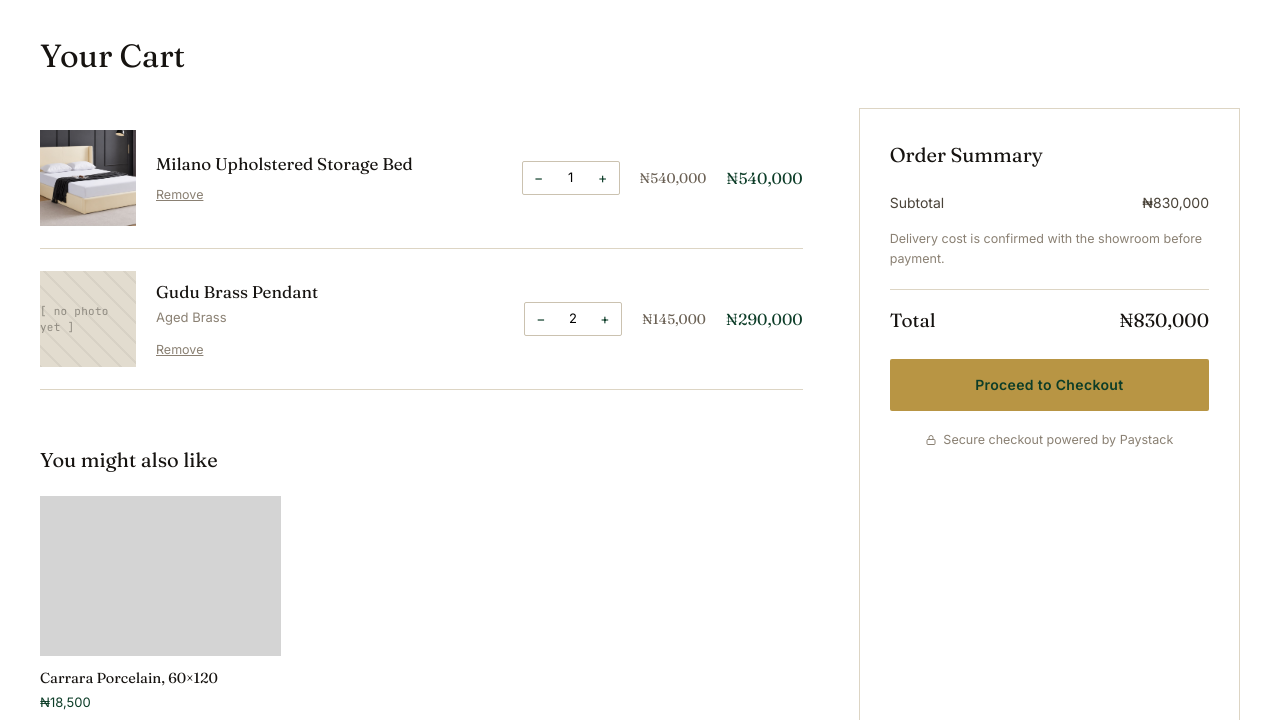
Test: CartView — remove › removes a line item and syncs cart-context with its quantity
This screenshot has width=1280, height=720.
Click the button "Remove" below "Aged Brass". click: (180, 350)
box: [156, 340, 203, 359]
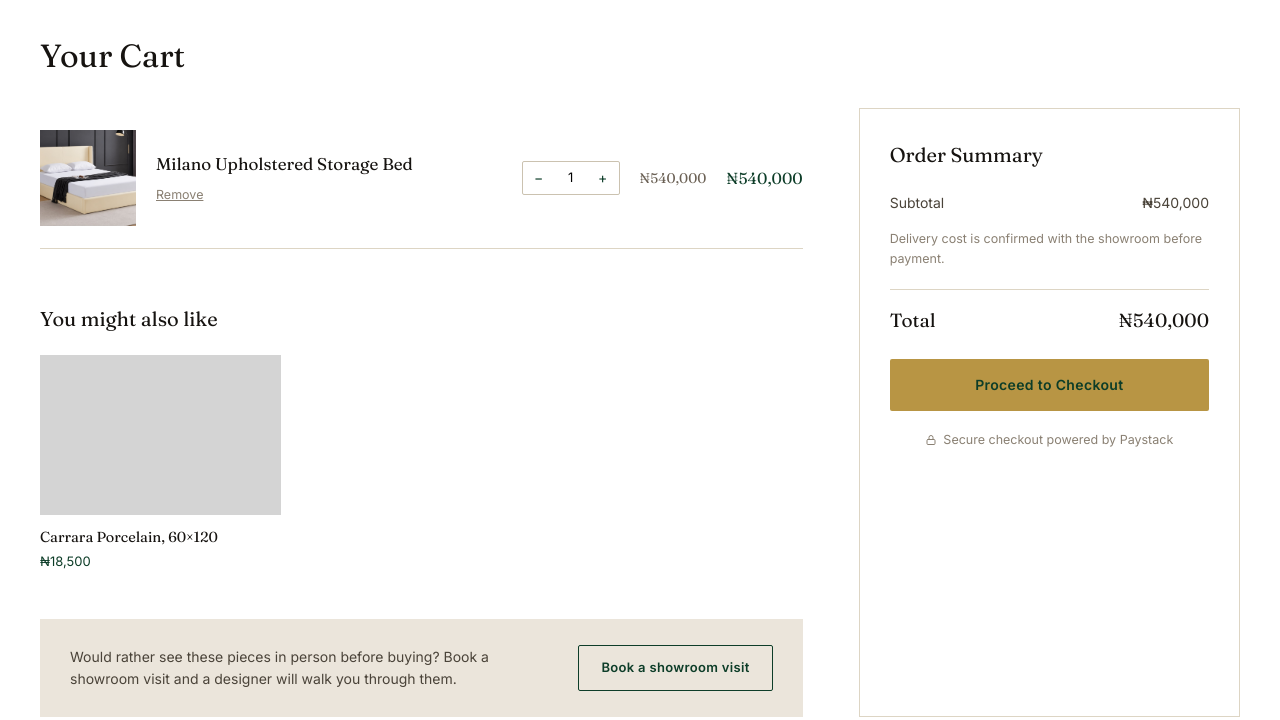
Expected: the link "Milano Upholstered Storage Bed" is shown, [156, 153, 413, 174]
Result: the link "Gudu Brass Pendant" is gone
